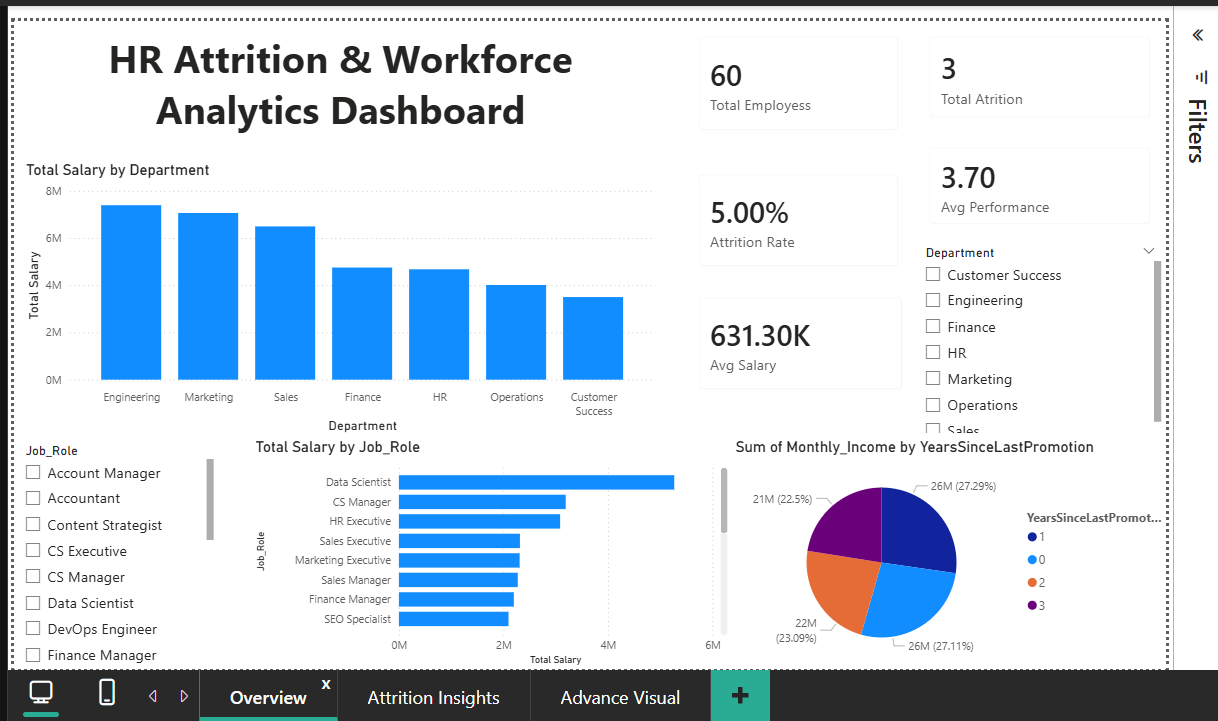

The dashboard page shown, as its layout file describes it:
{"tool":"powerbi","page":{"name":" Overview","canvas":[1280,720],"ordinal":0},"visuals":[{"type":"cardVisual","fields":{"Data":["DIm_Employee.Total Employess"]},"box":[742.8,0,256.7,138.9],"z":0},{"type":"cardVisual","fields":{"Data":["Fact_Attrition.Total Atrition"]},"box":[999.5,0,279.8,124.1],"z":1},{"type":"cardVisual","fields":{"Data":["Fact_Attrition.Attrition Rate"]},"box":[742.8,153.6,256.7,136.8],"z":2},{"type":"cardVisual","fields":{"Data":["DIm_Employee.Avg Salary"]},"box":[742.8,290.4,260.9,136.8],"z":3},{"type":"cardVisual","fields":{"Data":["Dim_Performance.Avg Performance"]},"box":[999.5,124.1,279.8,119.9],"z":4},{"type":"clusteredColumnChart","fields":{"Category":["DIm_Employee.Department"],"Y":["DIm_Employee.Total Salary"]},"box":[8.4,155.7,709.1,307.2],"z":5},{"type":"clusteredBarChart","fields":{"Category":["DIm_Employee.Job_Role"],"Y":["DIm_Employee.Total Salary"]},"box":[263,462.9,534.4,256.7],"z":6},{"type":"slicer","fields":{"Values":["DIm_Employee.Department"]},"box":[999.5,244.1,279.8,218.8],"z":7},{"type":"slicer","fields":{"Values":["DIm_Employee.Job_Role"]},"box":[0,462.9,227.2,256.7],"z":8},{"type":"pieChart","fields":{"Category":["Fact_Attrition.YearsSinceLastPromotion"],"Y":["Sum(Fact_Attrition.Monthly_Income)"]},"box":[797.5,462.9,481.8,256.7],"z":9},{"type":"textbox","box":[8,6,709,150],"z":10}]}

Visuals, with their boxes on the page's 1280x720 design canvas (x1, y1, x2, y2). These are canvas units, not pixel positions in the 1218x721 screenshot, which may show the page scaled, cropped or inside an application window:
cardVisual - DIm_Employee.Total Employess: region(743, 0, 1000, 139)
cardVisual - Fact_Attrition.Total Atrition: region(1000, 0, 1279, 124)
cardVisual - Fact_Attrition.Attrition Rate: region(743, 154, 1000, 290)
cardVisual - DIm_Employee.Avg Salary: region(743, 290, 1004, 427)
cardVisual - Dim_Performance.Avg Performance: region(1000, 124, 1279, 244)
clusteredColumnChart - DIm_Employee.Department x DIm_Employee.Total Salary: region(8, 156, 718, 463)
clusteredBarChart - DIm_Employee.Job_Role x DIm_Employee.Total Salary: region(263, 463, 797, 720)
slicer - DIm_Employee.Department: region(1000, 244, 1279, 463)
slicer - DIm_Employee.Job_Role: region(0, 463, 227, 720)
pieChart - Fact_Attrition.YearsSinceLastPromotion x Sum(Fact_Attrition.Monthly_Income): region(798, 463, 1279, 720)
textbox: region(8, 6, 717, 156)
